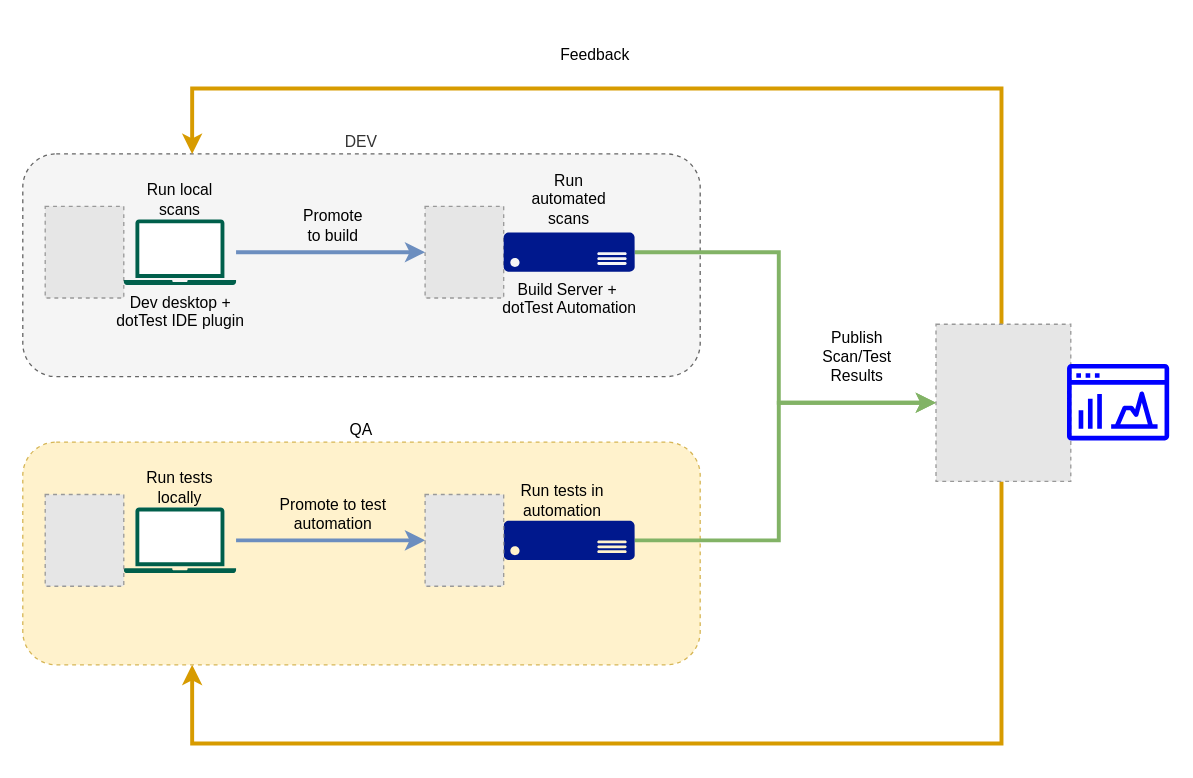
The diagram is 1193 pixels wide and 778 high, and some of its shapes have lost their labels. Grey dashed boxes stand in for pictures. The centre of each missing label's shape, as x and y in pixels:
"QA desktop + SOAtest Desktop" goes at point (179, 539).
"Test Automation + SOAtest Automation" goes at point (568, 539).
